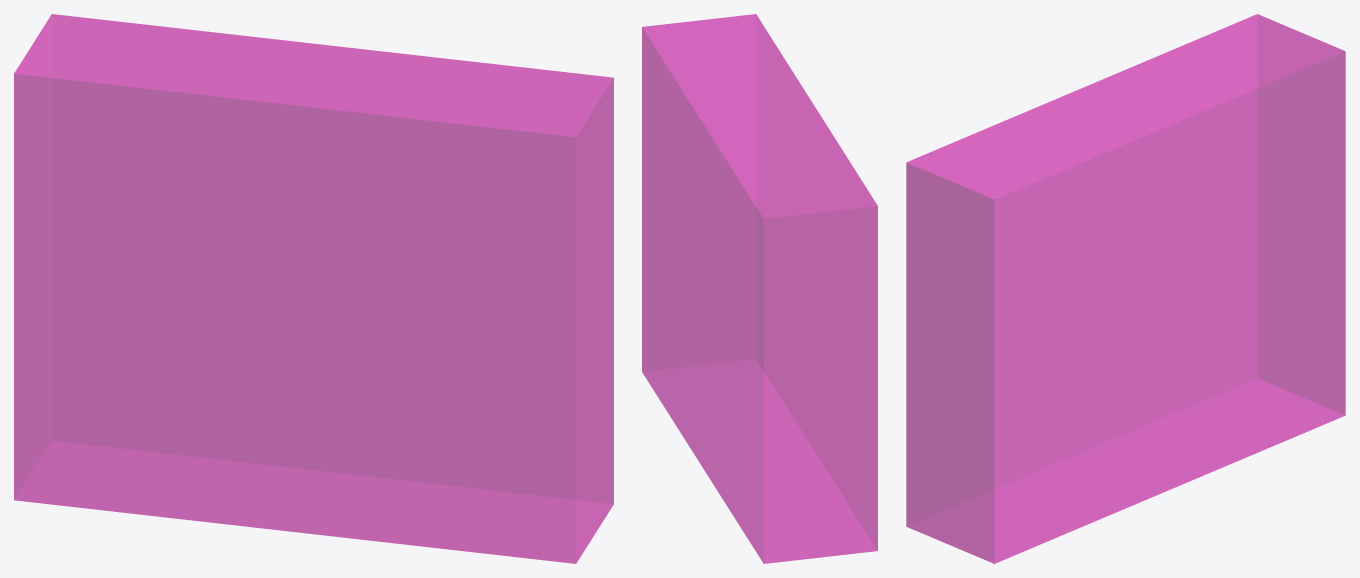
File: SM_Bld_45_Wall_06_Collision.fbx
The picture shows the model from 3 angles, left to right: view 1: azimuth 30°, elevation 25°; view 2: azimuth 150°, elevation 25°; view 3: azimuth 270°, elevation 25°; orthographic projection. The views are drawn at different scales.
Parts seen in each view (by area): view 1: SM_Bld_45_Wall_06_Collision; view 2: SM_Bld_45_Wall_06_Collision; view 3: SM_Bld_45_Wall_06_Collision.
Part boxes in pixels (left/top/right/bottom): SM_Bld_45_Wall_06_Collision: left=14, top=14, right=613, bottom=563; SM_Bld_45_Wall_06_Collision: left=642, top=14, right=877, bottom=563; SM_Bld_45_Wall_06_Collision: left=906, top=14, right=1345, bottom=563.
Bounding box in the file's own units: 333 × 305 × 333.
